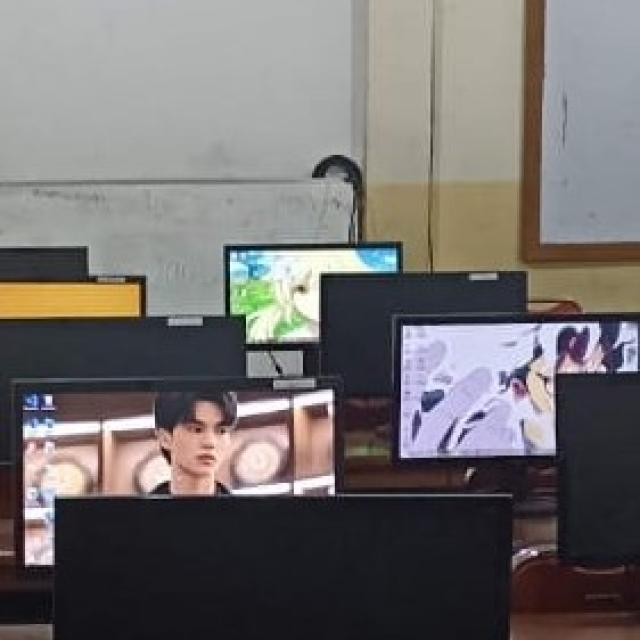offscreen: (56, 495, 509, 640), (321, 273, 526, 396), (558, 374, 640, 563), (0, 316, 244, 377)
onscreen: (22, 390, 334, 566), (396, 317, 640, 459), (226, 244, 401, 344), (0, 277, 146, 319)
